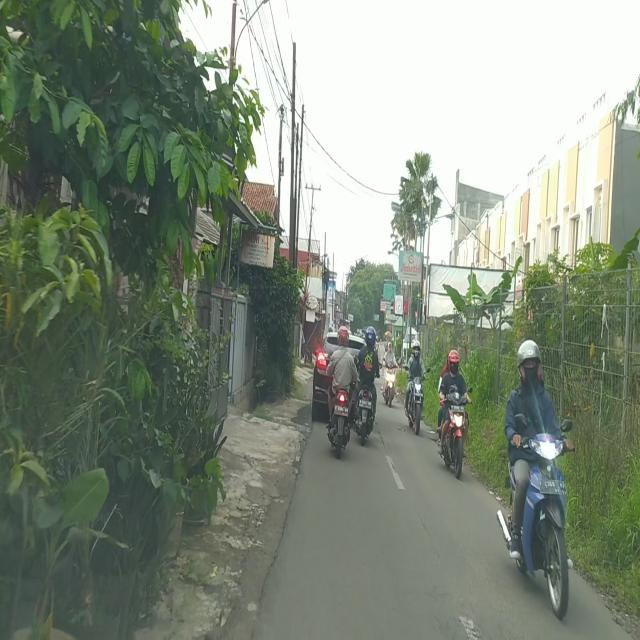Drain Hole: (377, 428, 385, 448), (389, 456, 397, 474)
